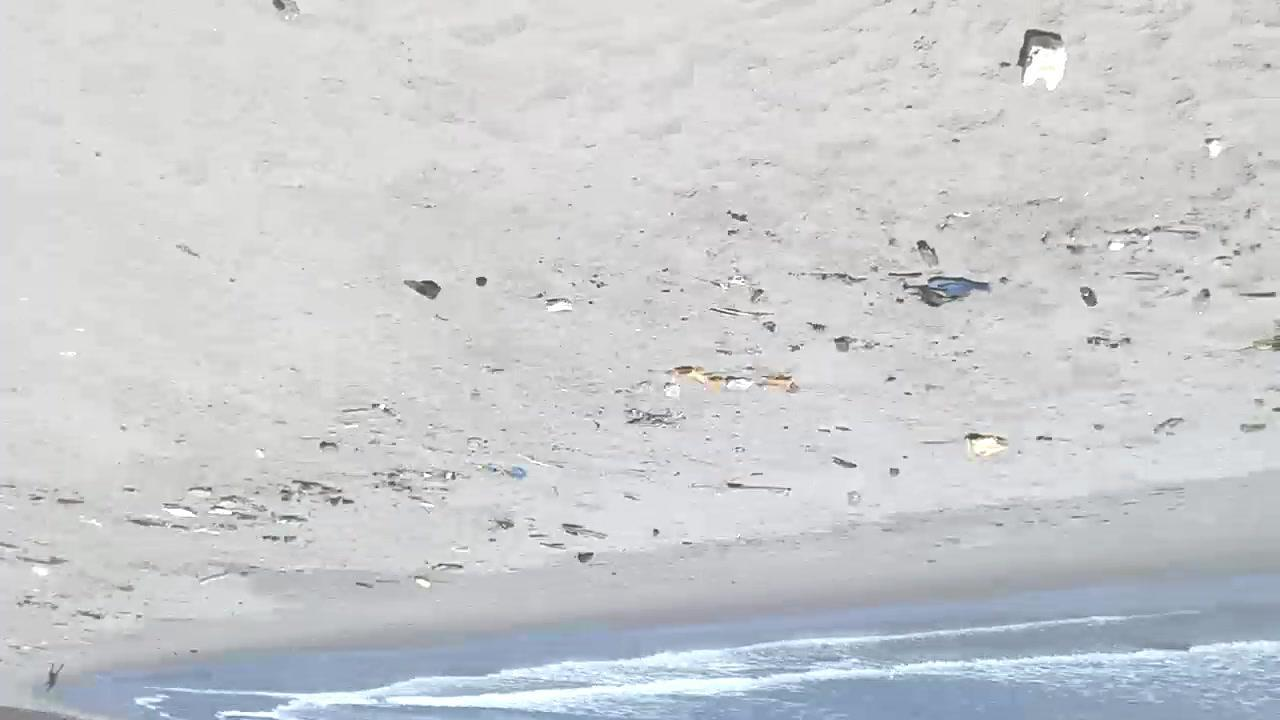obj: (134, 493, 306, 535), (896, 276, 989, 316), (1019, 24, 1070, 94), (648, 360, 728, 396), (962, 431, 1014, 466), (403, 270, 443, 312), (756, 372, 802, 400), (470, 463, 526, 483), (268, 1, 306, 30), (916, 235, 942, 271), (1078, 286, 1101, 309)
sand/background: (0, 528, 1280, 719)
